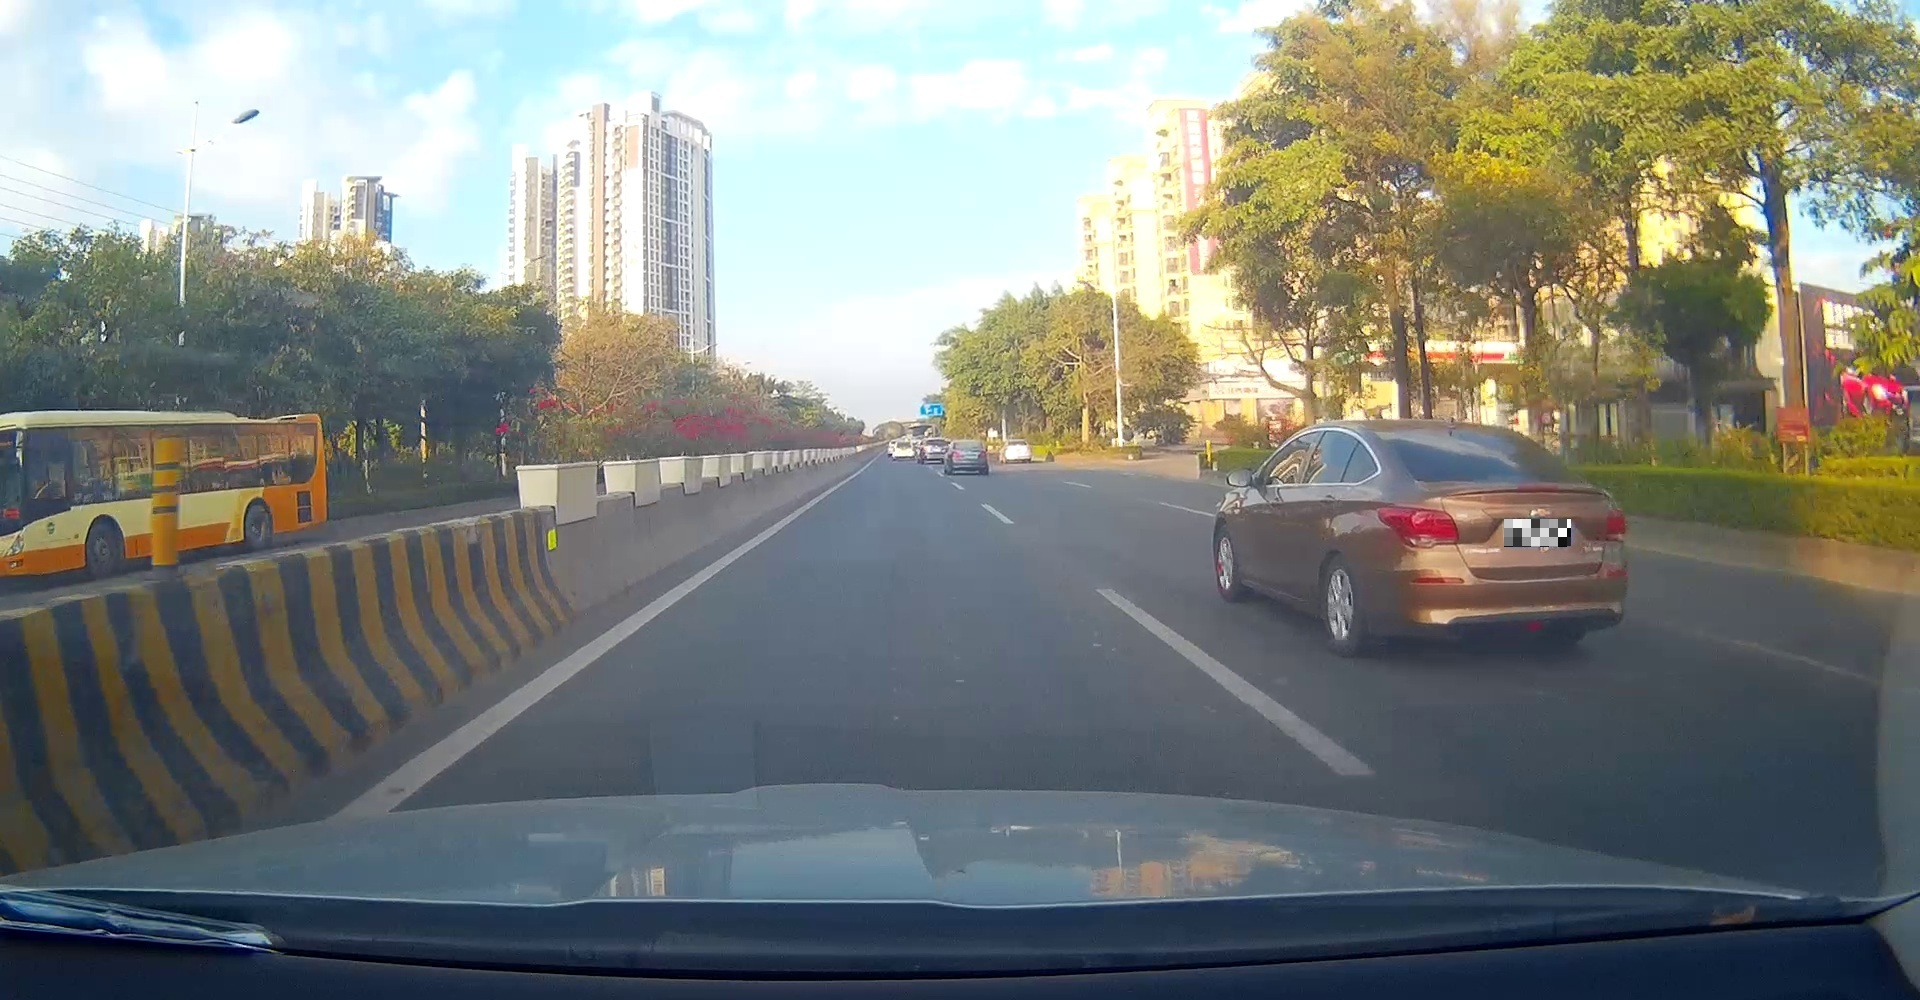L_light: (1378, 504, 1459, 548), (951, 451, 960, 458)
R_light: (1601, 503, 1625, 542), (978, 451, 985, 458)
T_light: (1490, 473, 1535, 481), (966, 442, 971, 444)
day-no: (1370, 418, 1628, 657), (949, 440, 988, 476)
plate_1: (1503, 519, 1571, 547)
